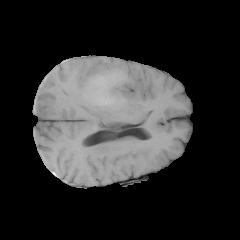glioma: (77, 62, 142, 110)
